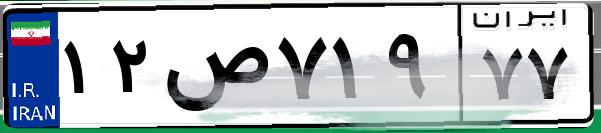1: (330, 28, 385, 110), (57, 26, 110, 100)
2: (110, 28, 158, 98)
7: (270, 28, 330, 110), (475, 38, 525, 113), (525, 38, 570, 115)
9: (385, 28, 445, 110)
ص: (158, 20, 270, 120)
